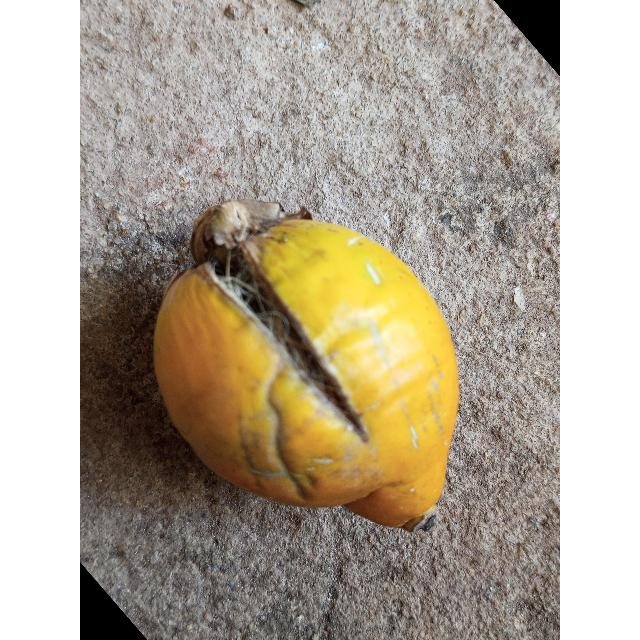damaged: (154, 200, 458, 531)
